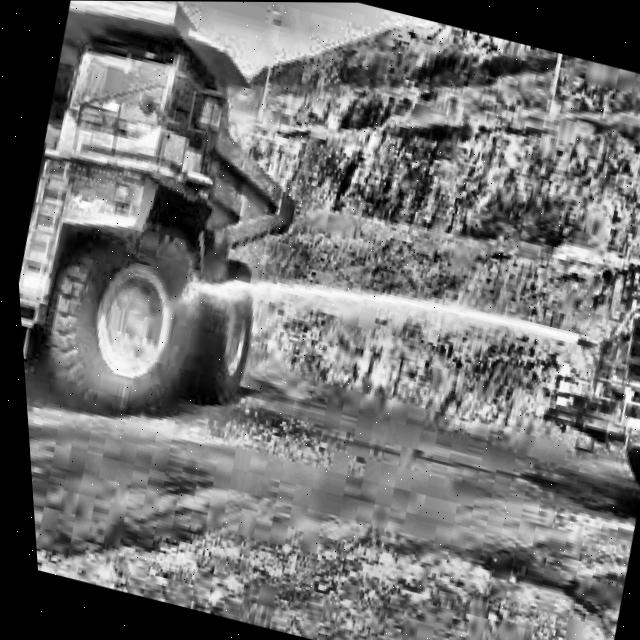dump_truck: (0, 0, 345, 440), (496, 63, 640, 533)
